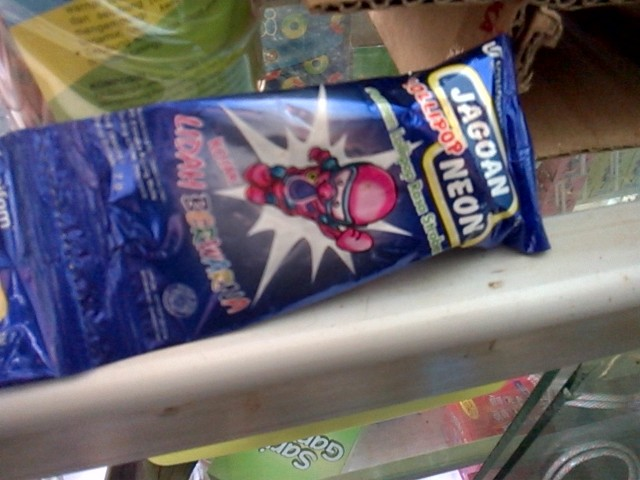jagoan neon: (39, 32, 553, 371)
